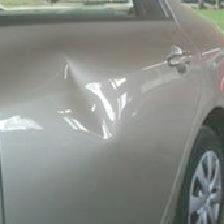door_dent: (28, 54, 118, 149)
